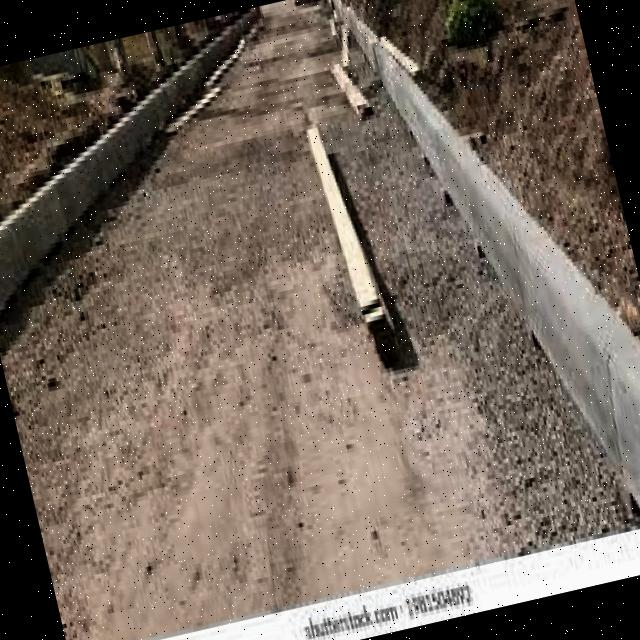curb: (373, 42, 640, 492), (1, 14, 262, 320)
